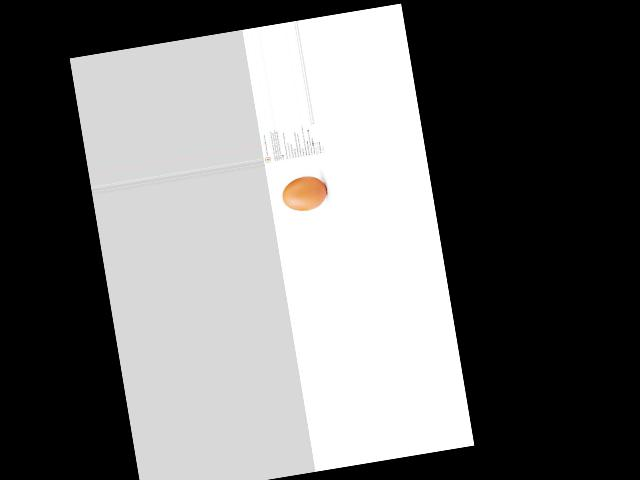egg: (280, 173, 329, 213)
